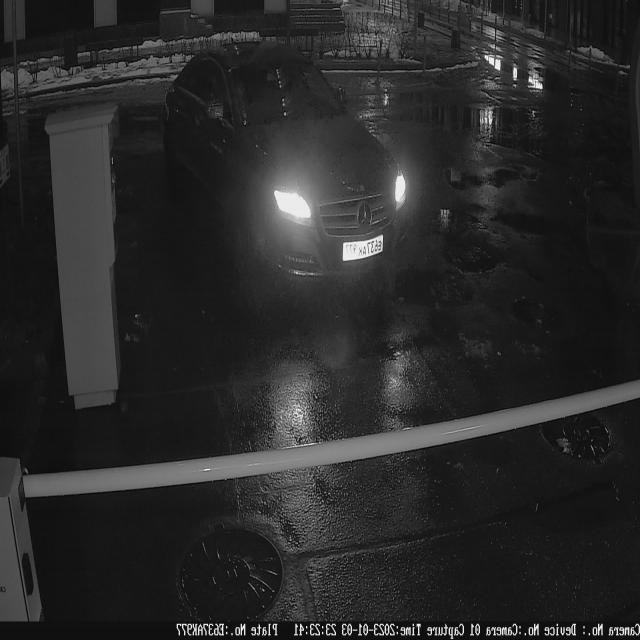car-plate-numbers: (342, 233, 387, 266)
